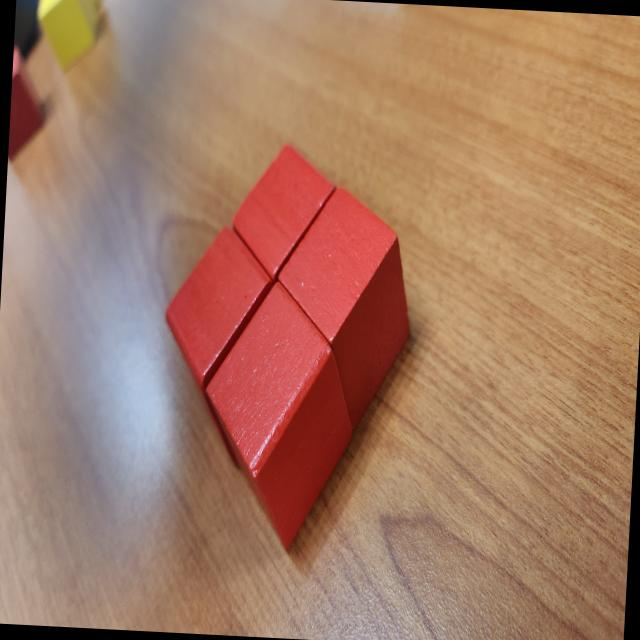red: (195, 278, 362, 556), (267, 182, 418, 446), (160, 223, 275, 440), (229, 142, 337, 284), (8, 44, 49, 165)
yellow: (33, 0, 102, 78)
